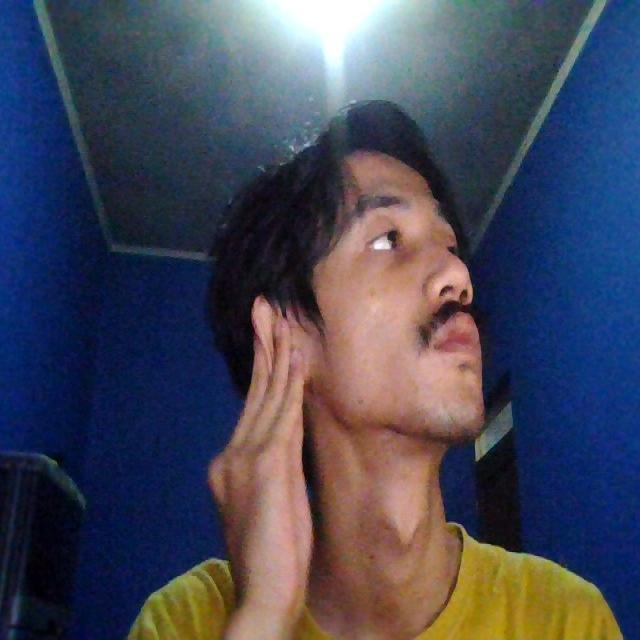melihat kekiri: (169, 138, 510, 468)
movement: (186, 292, 346, 600)
